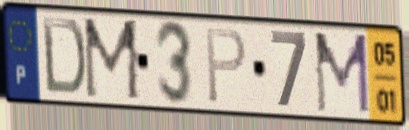3: (153, 16, 195, 112)
7: (267, 27, 311, 112)
D: (40, 14, 88, 99)
M: (80, 15, 143, 105), (312, 30, 372, 117)
P: (204, 26, 248, 107)
